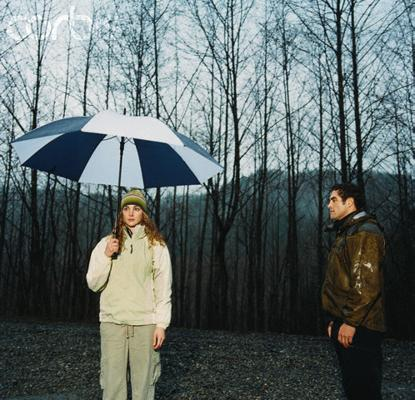person: (87, 189, 173, 400)
